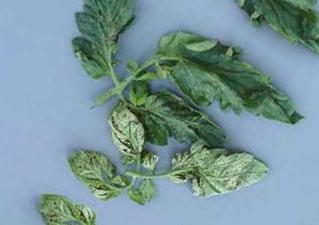Tomato leaf bacterial spot: (136, 6, 319, 164), (166, 118, 280, 225), (39, 0, 161, 83), (90, 100, 161, 170)
